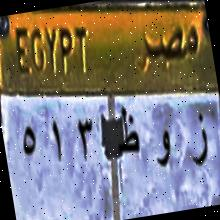1: (42, 108, 72, 170)
3: (71, 112, 101, 170)
5: (13, 112, 43, 170)
Thaa: (108, 98, 146, 165)
waw: (146, 119, 182, 187)
zay: (182, 104, 218, 178)
